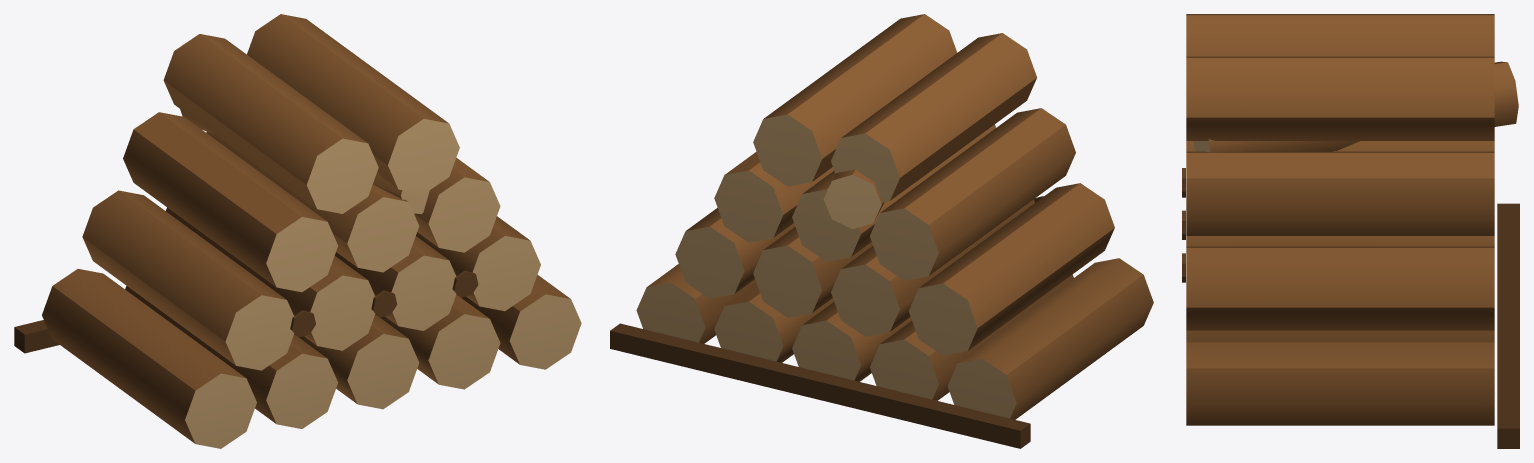
The model's file is log_pile.glb.
3 views of the same model, side by side, from view 1: azimuth 30°, elevation 25°; view 2: azimuth 150°, elevation 25°; view 3: azimuth 270°, elevation 25° (orthographic). The views are drawn at different scales.
Parts seen in each view (by area): view 1: log_pile, log_pile_craft; view 2: log_pile; view 3: log_pile, log_pile_craft.
Part boxes in pixels (left/top/right/bottom): log_pile: left=14, top=14, right=581, bottom=448; log_pile_craft: left=290, top=270, right=478, bottom=337; log_pile: left=610, top=14, right=1153, bottom=448; log_pile: left=1186, top=14, right=1519, bottom=448; log_pile_craft: left=1182, top=168, right=1185, bottom=282.
Size of the model in its own units: 1.9 by 1.19 by 1.21.
